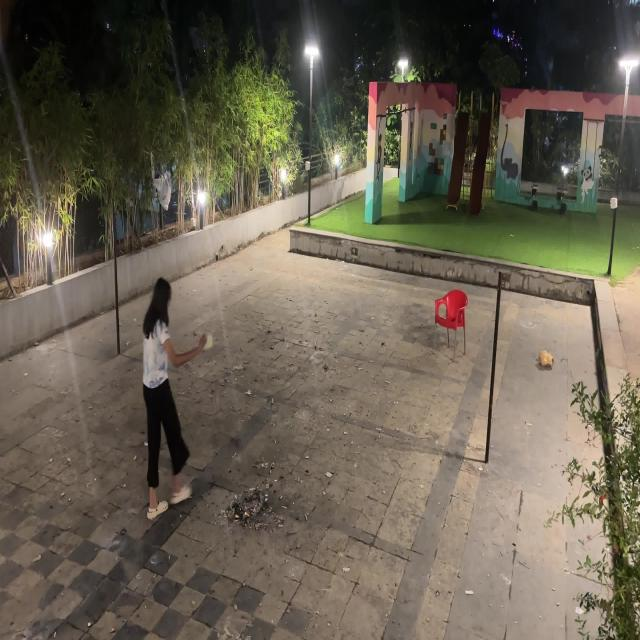human: (130, 272, 207, 522)
trash: (222, 467, 282, 533), (200, 325, 216, 360)
